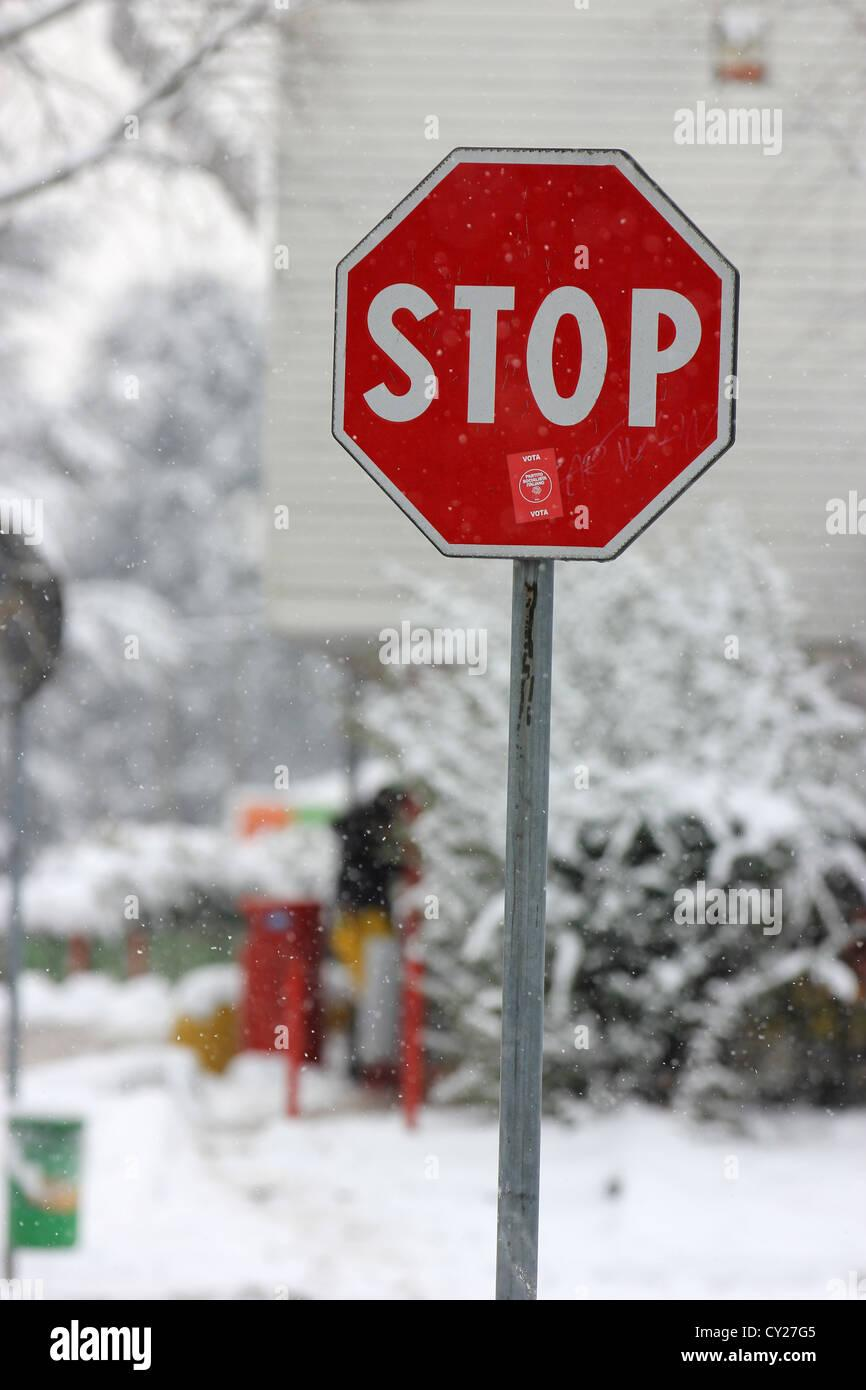Pole: (496, 558, 554, 1300)
Sign: (334, 144, 738, 560)
